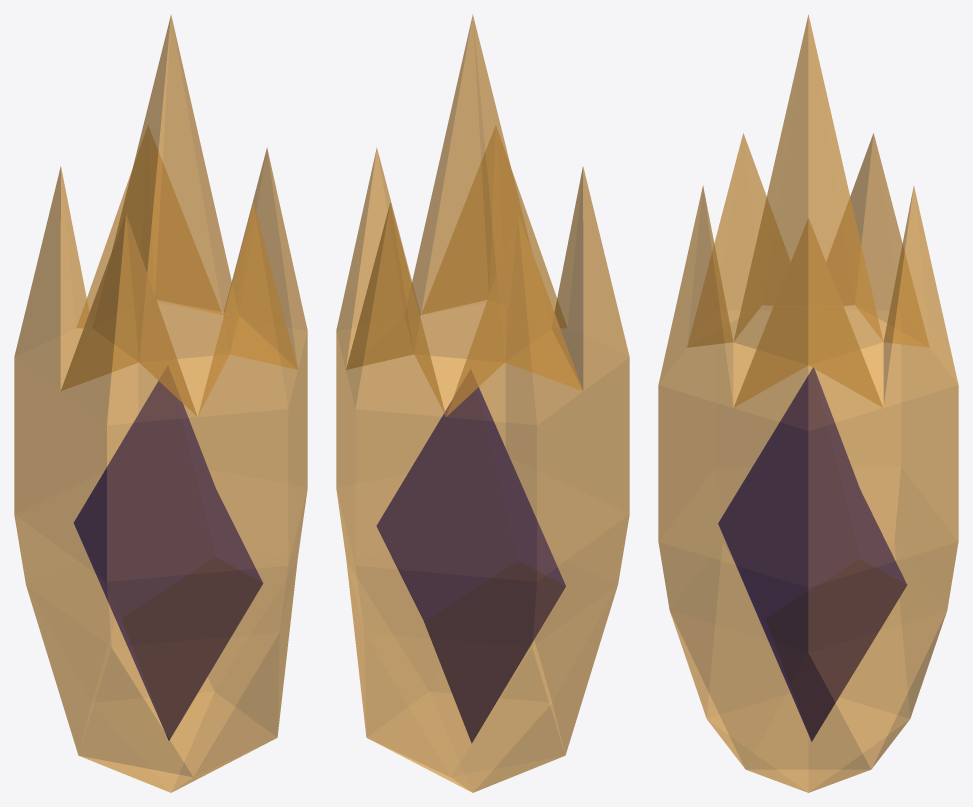
The model's file is Meteor.fbx.
The picture shows the model from 3 angles, left to right: view 1: azimuth 30°, elevation 25°; view 2: azimuth 150°, elevation 25°; view 3: azimuth 270°, elevation 25°; orthographic projection.
Visible parts, largest first — view 1: Cube; view 2: Cube; view 3: Cube.
Boxes of the visible parts, x1=… form: Cube: x1=14, y1=14, x2=307, y2=792; Cube: x1=336, y1=14, x2=629, y2=792; Cube: x1=658, y1=14, x2=958, y2=792.
Size of the model in its own units: 239 by 718 by 251.
